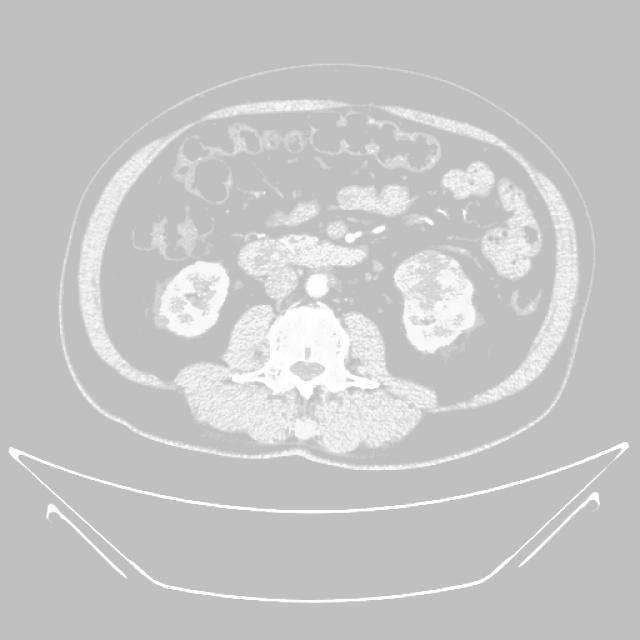TUMOR: (295, 211, 597, 368)
